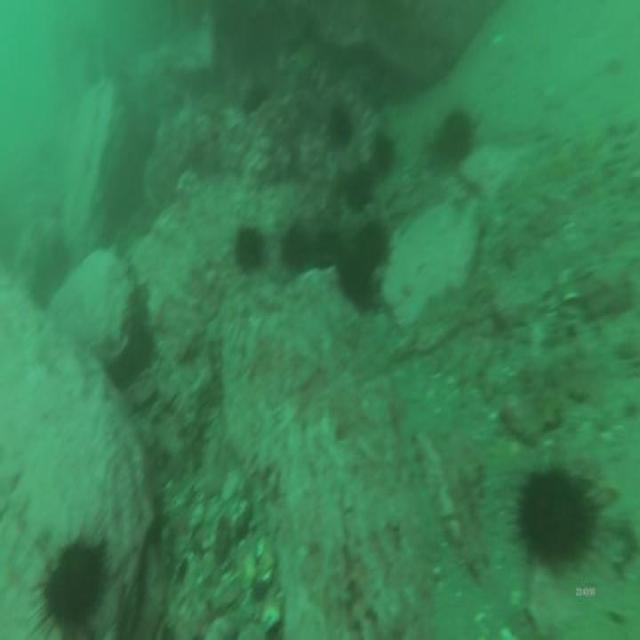echinus: (510, 455, 607, 582), (28, 528, 114, 640), (428, 104, 478, 171), (111, 326, 156, 394), (351, 210, 392, 281), (336, 250, 377, 318), (306, 215, 338, 278), (232, 223, 268, 278), (279, 221, 313, 278), (343, 158, 373, 218), (367, 131, 398, 185), (324, 98, 354, 144), (240, 80, 273, 114)
